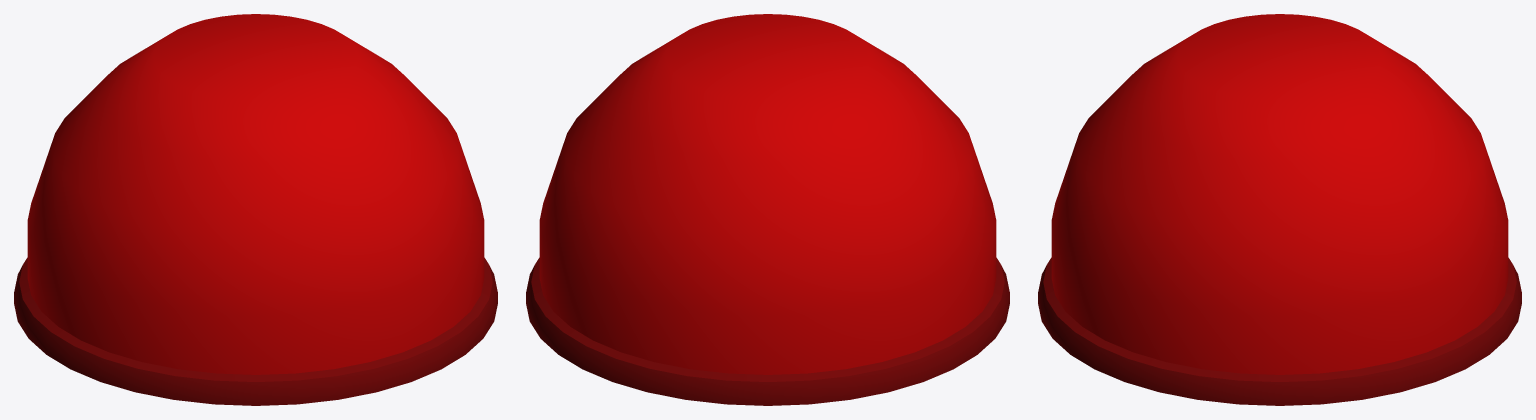
Rendered from Stick.fbx.
3 renders of one model, left to right at view 1: azimuth 30°, elevation 25°; view 2: azimuth 150°, elevation 25°; view 3: azimuth 270°, elevation 25°, orthographic.
Visible parts, largest first — view 1: Disc; view 2: Disc; view 3: Disc.
Part boxes in pixels (left/top/right/bottom): Disc: left=14, top=14, right=497, bottom=405; Disc: left=526, top=14, right=1009, bottom=405; Disc: left=1038, top=14, right=1521, bottom=405.
Bounding box in the file's own units: 208 × 117 × 208.
